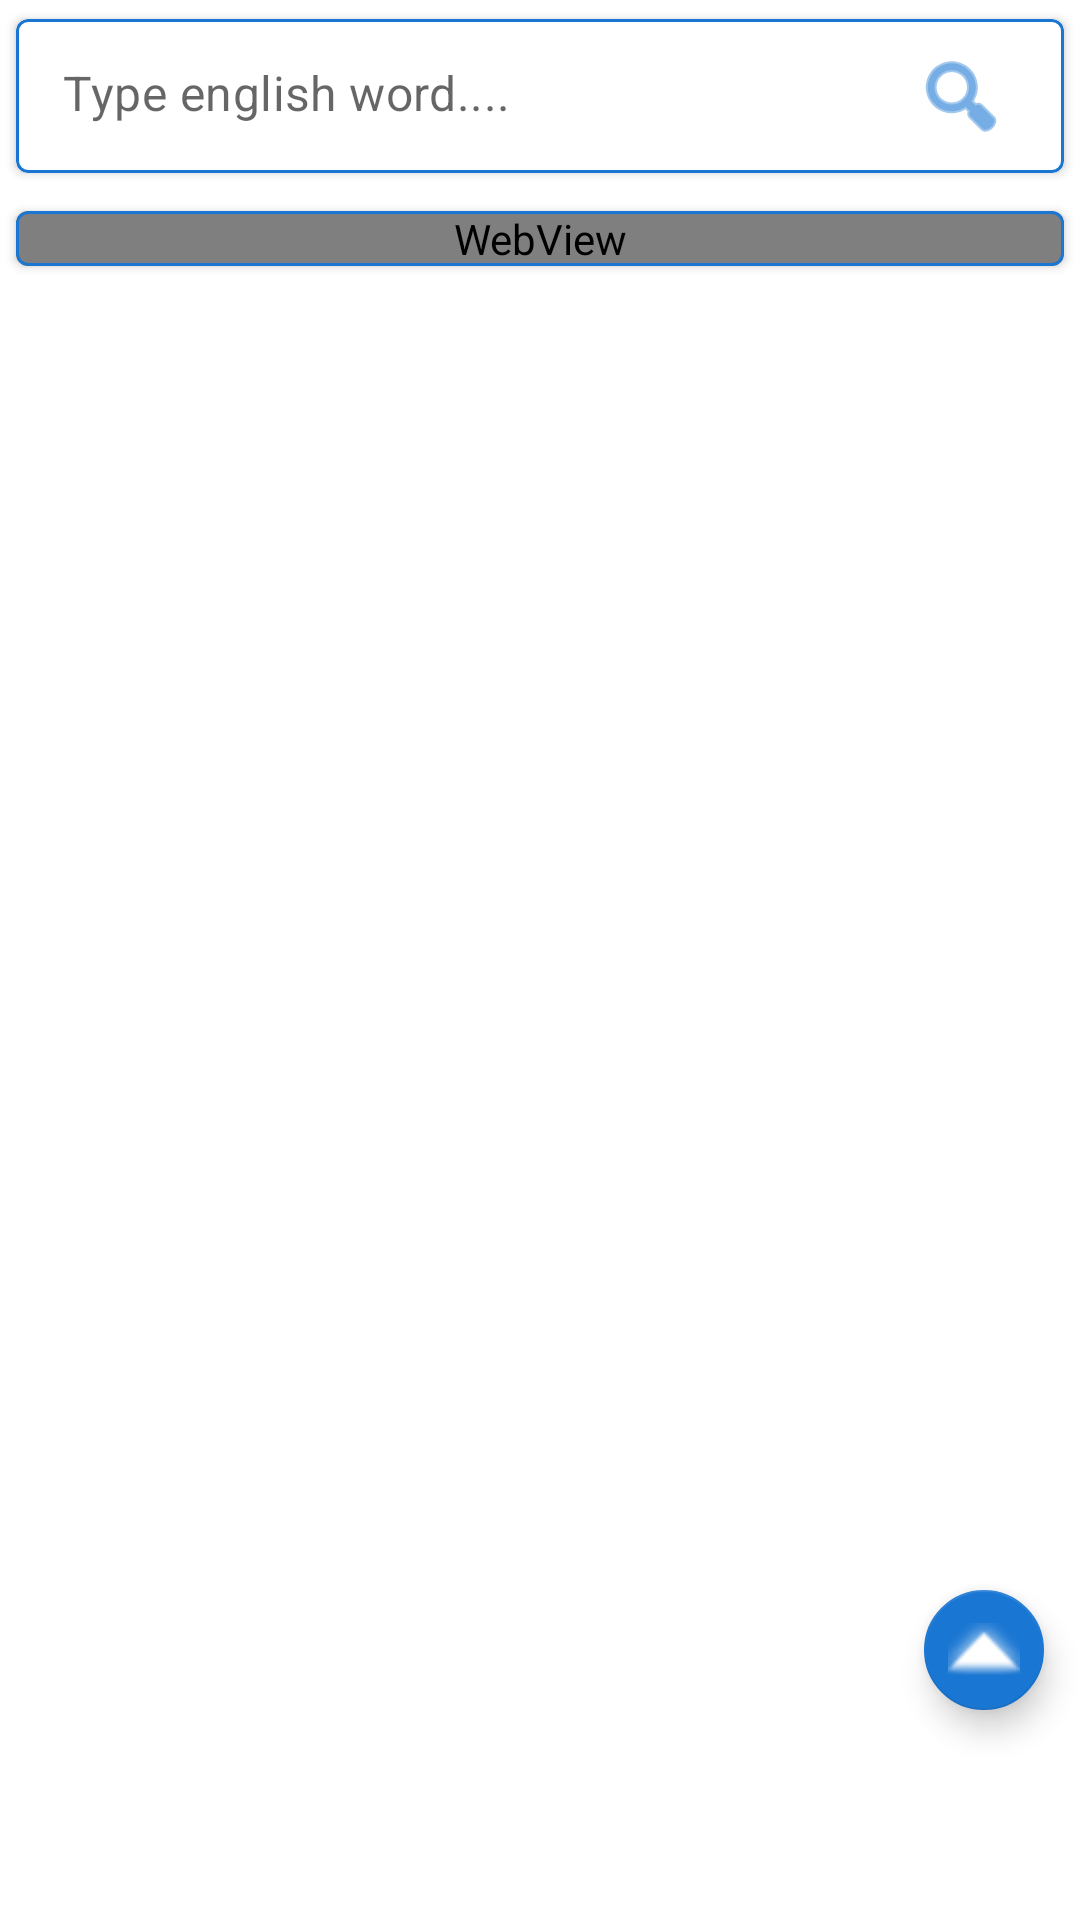

Point at icon controls on the screen. Image size 1080 × 1920, points as (x=x, y=y).
arrow up float: (x=985, y=1656)
search: (x=961, y=96)
